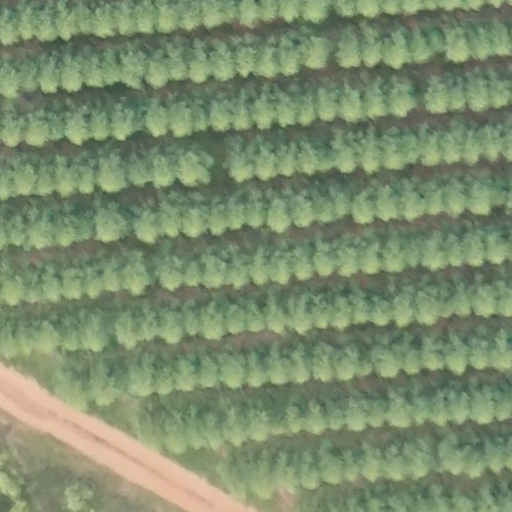eucalipto: (92, 199, 134, 248), (175, 145, 213, 192), (300, 28, 335, 78), (285, 237, 317, 281), (224, 141, 259, 181), (286, 292, 319, 333), (51, 206, 82, 249), (207, 93, 238, 135), (348, 186, 379, 228), (414, 124, 441, 170), (36, 53, 63, 99), (465, 69, 493, 113), (128, 357, 158, 398), (107, 102, 136, 144), (157, 252, 186, 294), (200, 299, 228, 342), (336, 24, 362, 70), (312, 341, 340, 383), (444, 332, 471, 375), (355, 236, 383, 277), (291, 191, 321, 229), (113, 306, 140, 348), (157, 306, 186, 345), (363, 21, 386, 70), (118, 49, 146, 89), (124, 254, 152, 294), (266, 343, 292, 386), (266, 190, 292, 233), (98, 155, 128, 192), (419, 179, 446, 220), (421, 230, 448, 271), (374, 343, 403, 381), (81, 308, 110, 346), (386, 388, 412, 430), (295, 138, 323, 177), (59, 261, 86, 301), (328, 290, 352, 334), (221, 352, 248, 391), (92, 1, 119, 40), (389, 77, 415, 117), (385, 27, 409, 70), (312, 84, 339, 122), (181, 199, 208, 237), (358, 442, 384, 481), (359, 132, 383, 174), (245, 400, 269, 442), (392, 287, 417, 327), (62, 109, 89, 146), (470, 388, 497, 425), (197, 351, 223, 389), (414, 287, 440, 325), (460, 127, 484, 168), (248, 245, 272, 286), (59, 54, 84, 93), (460, 231, 485, 270), (468, 23, 493, 62), (472, 283, 498, 320), (246, 350, 270, 390), (168, 101, 193, 139), (188, 42, 211, 83), (303, 398, 328, 435), (444, 27, 469, 64), (465, 181, 493, 214), (421, 337, 448, 371), (144, 101, 168, 139), (424, 75, 448, 113), (343, 395, 367, 433), (145, 52, 169, 89), (467, 337, 492, 372), (257, 38, 279, 77), (173, 358, 198, 392), (224, 194, 247, 230), (88, 109, 113, 142), (370, 293, 393, 327), (245, 300, 267, 335), (181, 255, 202, 291)
